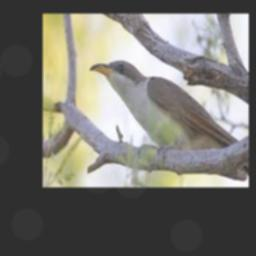Cuckoo: (90, 60, 241, 151)
